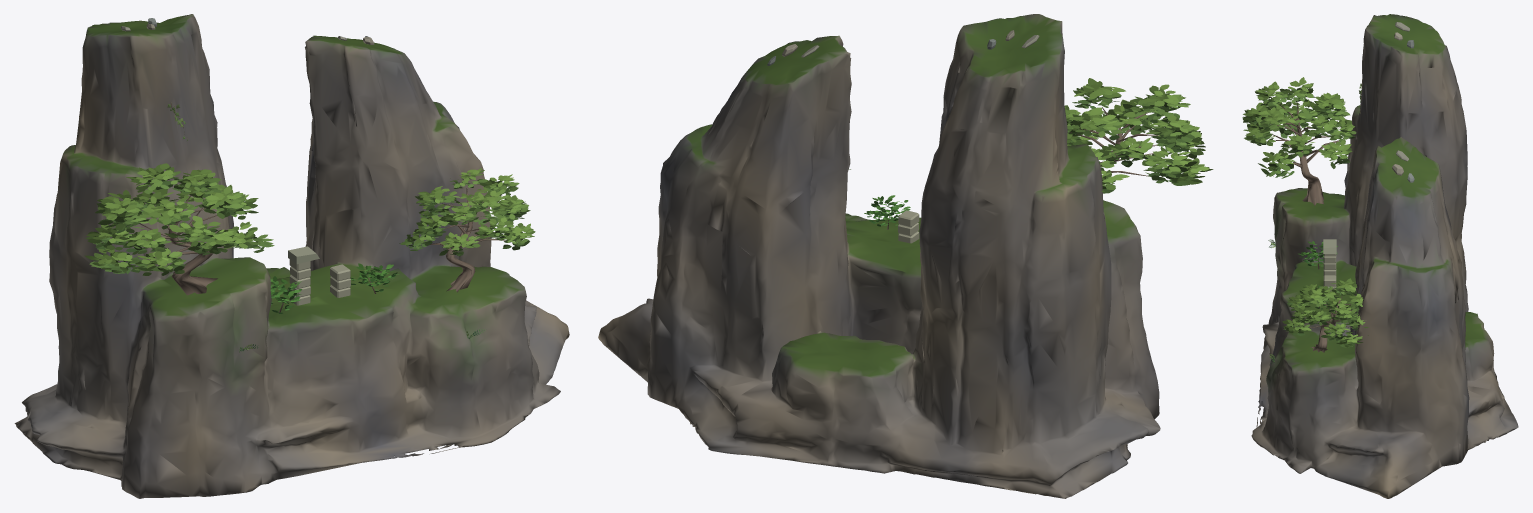
Rendered from cong-may.glb.
3 renders of one model, left to right at view 1: azimuth 30°, elevation 25°; view 2: azimuth 150°, elevation 25°; view 3: azimuth 270°, elevation 25°, orthographic. The views are drawn at different scales.
Parts seen in each view (by area): view 1: Vân Sơn · continuous eroded crag, broad 00 leaves, broad 01 leaves, broad 00 trunk, broad 01 trunk, shrub 03 leaves, shrub 02 leaves; view 2: Vân Sơn · continuous eroded crag, broad 00 leaves, shrub 03 leaves; view 3: Vân Sơn · continuous eroded crag, broad 00 leaves, broad 01 leaves, broad 00 trunk, broad 01 trunk, shrub 02 leaves.
Boxes of the visible parts, left/top/right/bottom form: Vân Sơn · continuous eroded crag: left=14, top=14, right=569, bottom=498; broad 00 leaves: left=84, top=163, right=274, bottom=275; broad 01 leaves: left=399, top=168, right=535, bottom=256; broad 00 trunk: left=139, top=194, right=217, bottom=295; broad 01 trunk: left=430, top=188, right=505, bottom=292; shrub 03 leaves: left=350, top=263, right=398, bottom=291; shrub 02 leaves: left=270, top=276, right=302, bottom=313; Vân Sơn · continuous eroded crag: left=598, top=14, right=1160, bottom=498; broad 00 leaves: left=1064, top=78, right=1213, bottom=193; shrub 03 leaves: left=864, top=195, right=910, bottom=227; Vân Sơn · continuous eroded crag: left=1251, top=14, right=1518, bottom=498; broad 00 leaves: left=1242, top=77, right=1356, bottom=178; broad 01 leaves: left=1282, top=278, right=1368, bottom=347; broad 00 trunk: left=1271, top=102, right=1338, bottom=205; broad 01 trunk: left=1309, top=296, right=1351, bottom=352; shrub 02 leaves: left=1298, top=241, right=1337, bottom=268.
Bounding box in the file's own units: 33.84 × 24.91 × 19.47.
